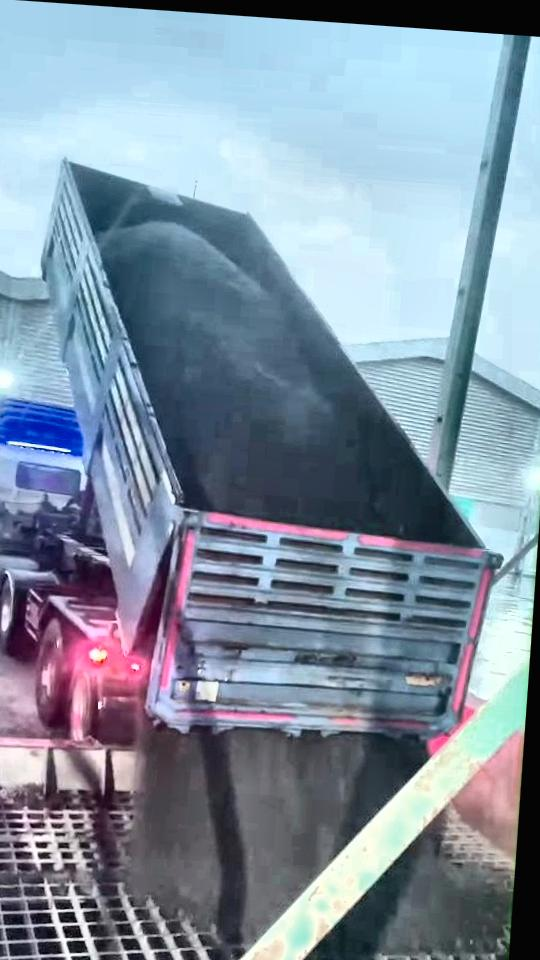gravel: (101, 222, 351, 526), (127, 724, 426, 946), (329, 819, 480, 957)
